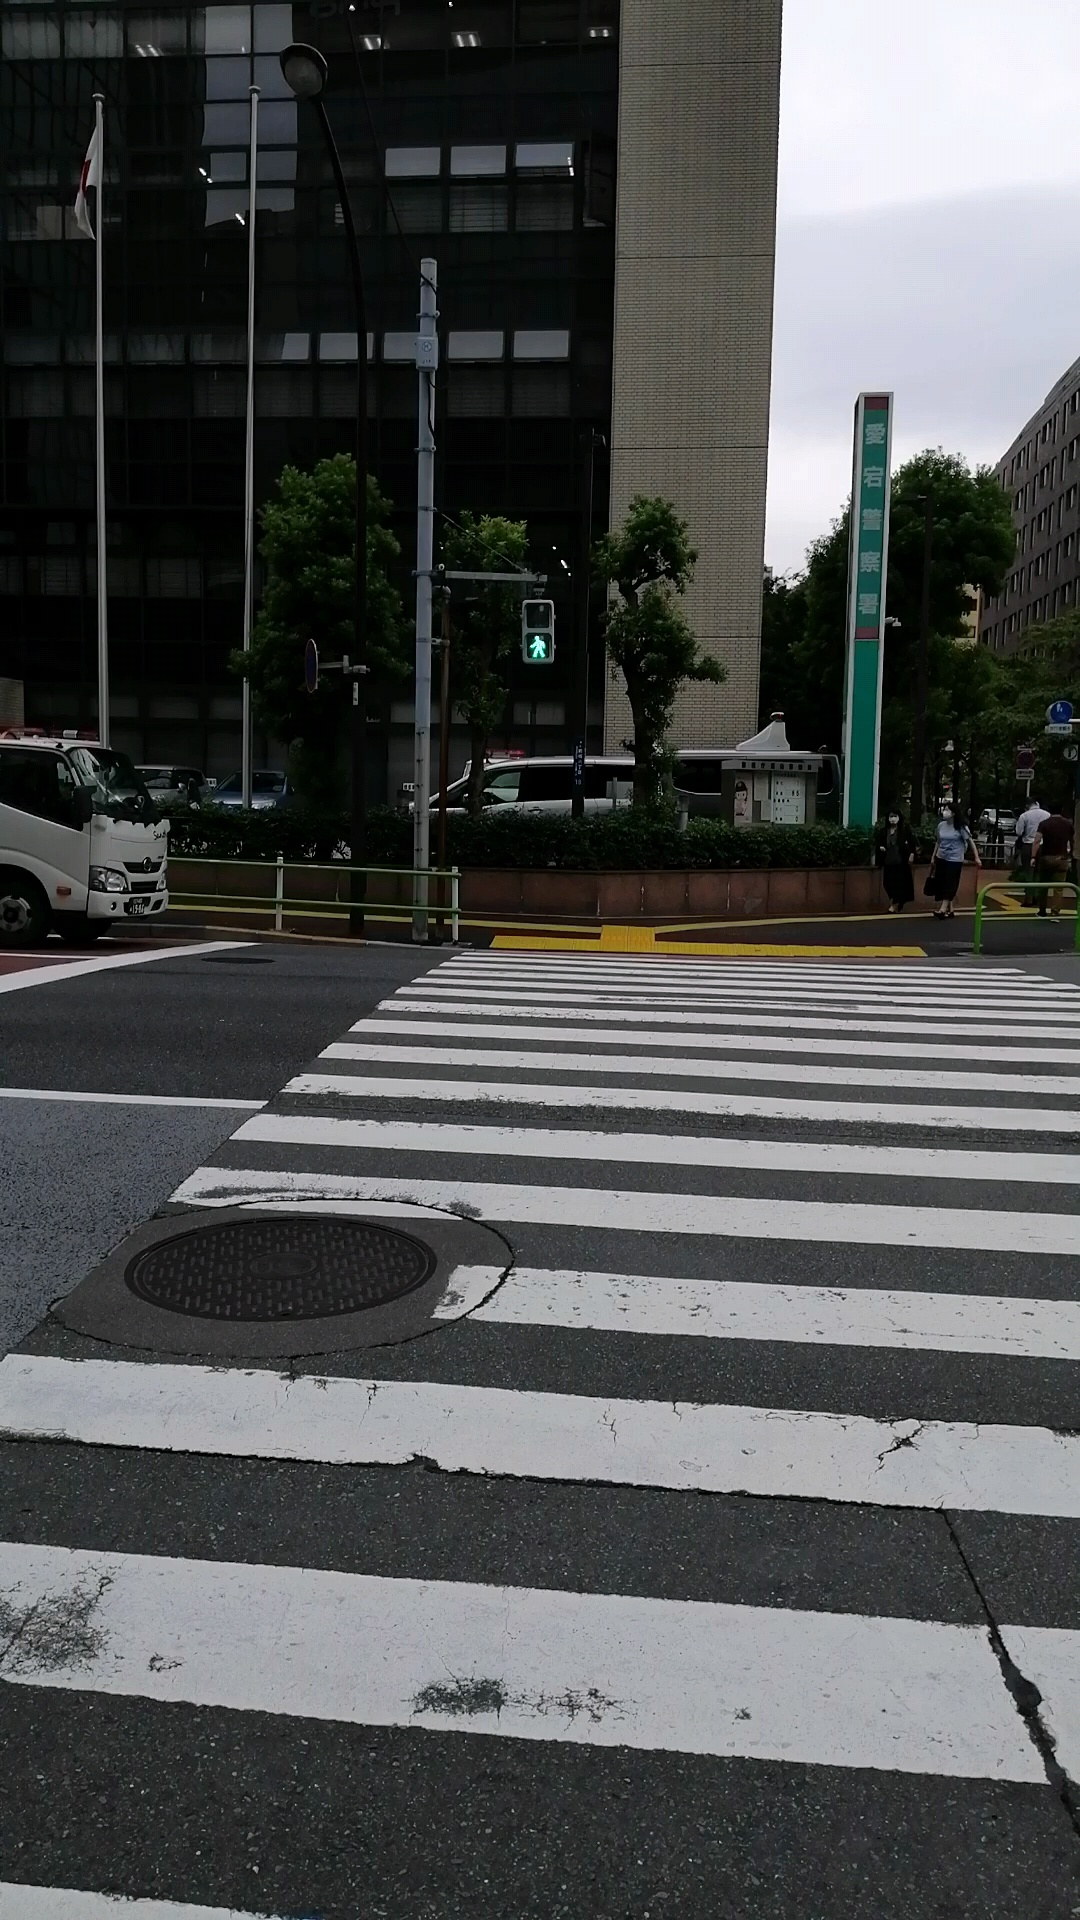green: (517, 599, 556, 667)
